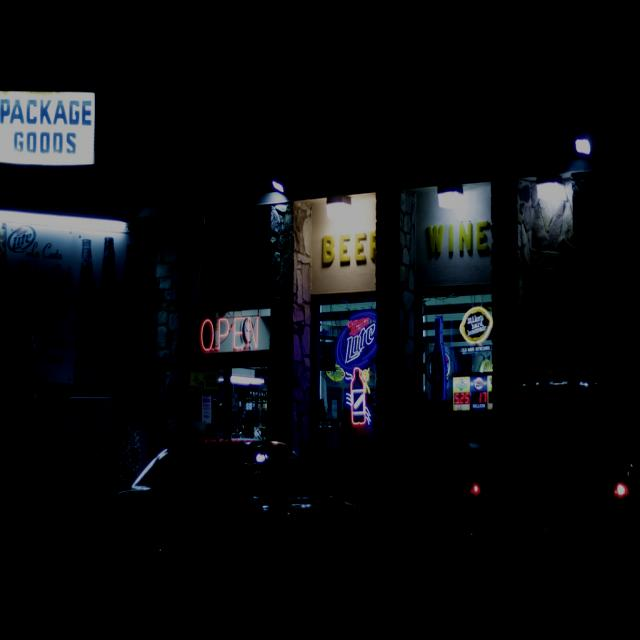Car: (82, 399, 344, 610), (446, 378, 630, 576)
